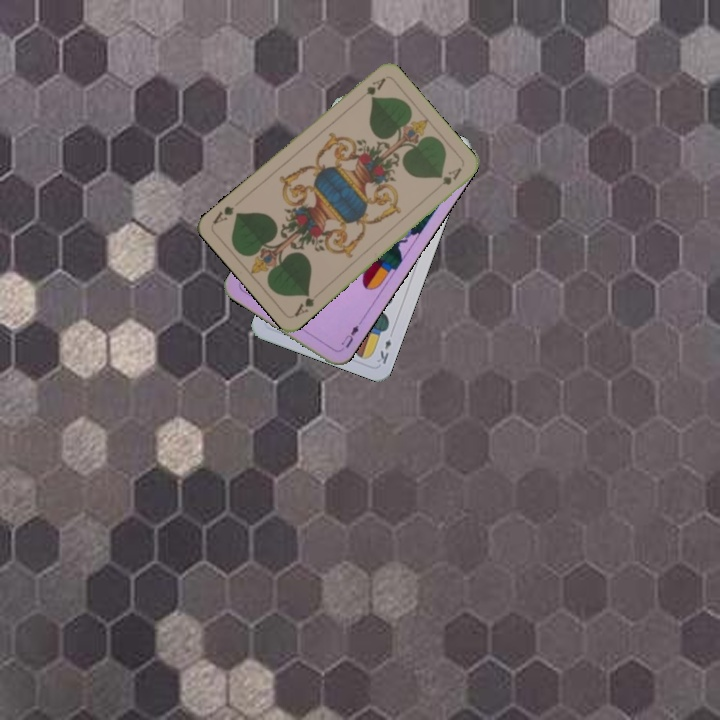EK: (373, 335, 394, 367)
EU: (337, 321, 362, 351)
GA: (290, 289, 317, 319), (362, 74, 388, 98)
